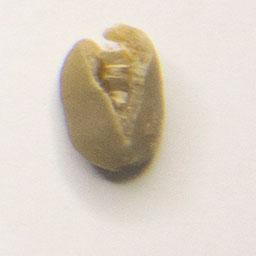defect: (56, 20, 170, 177)
